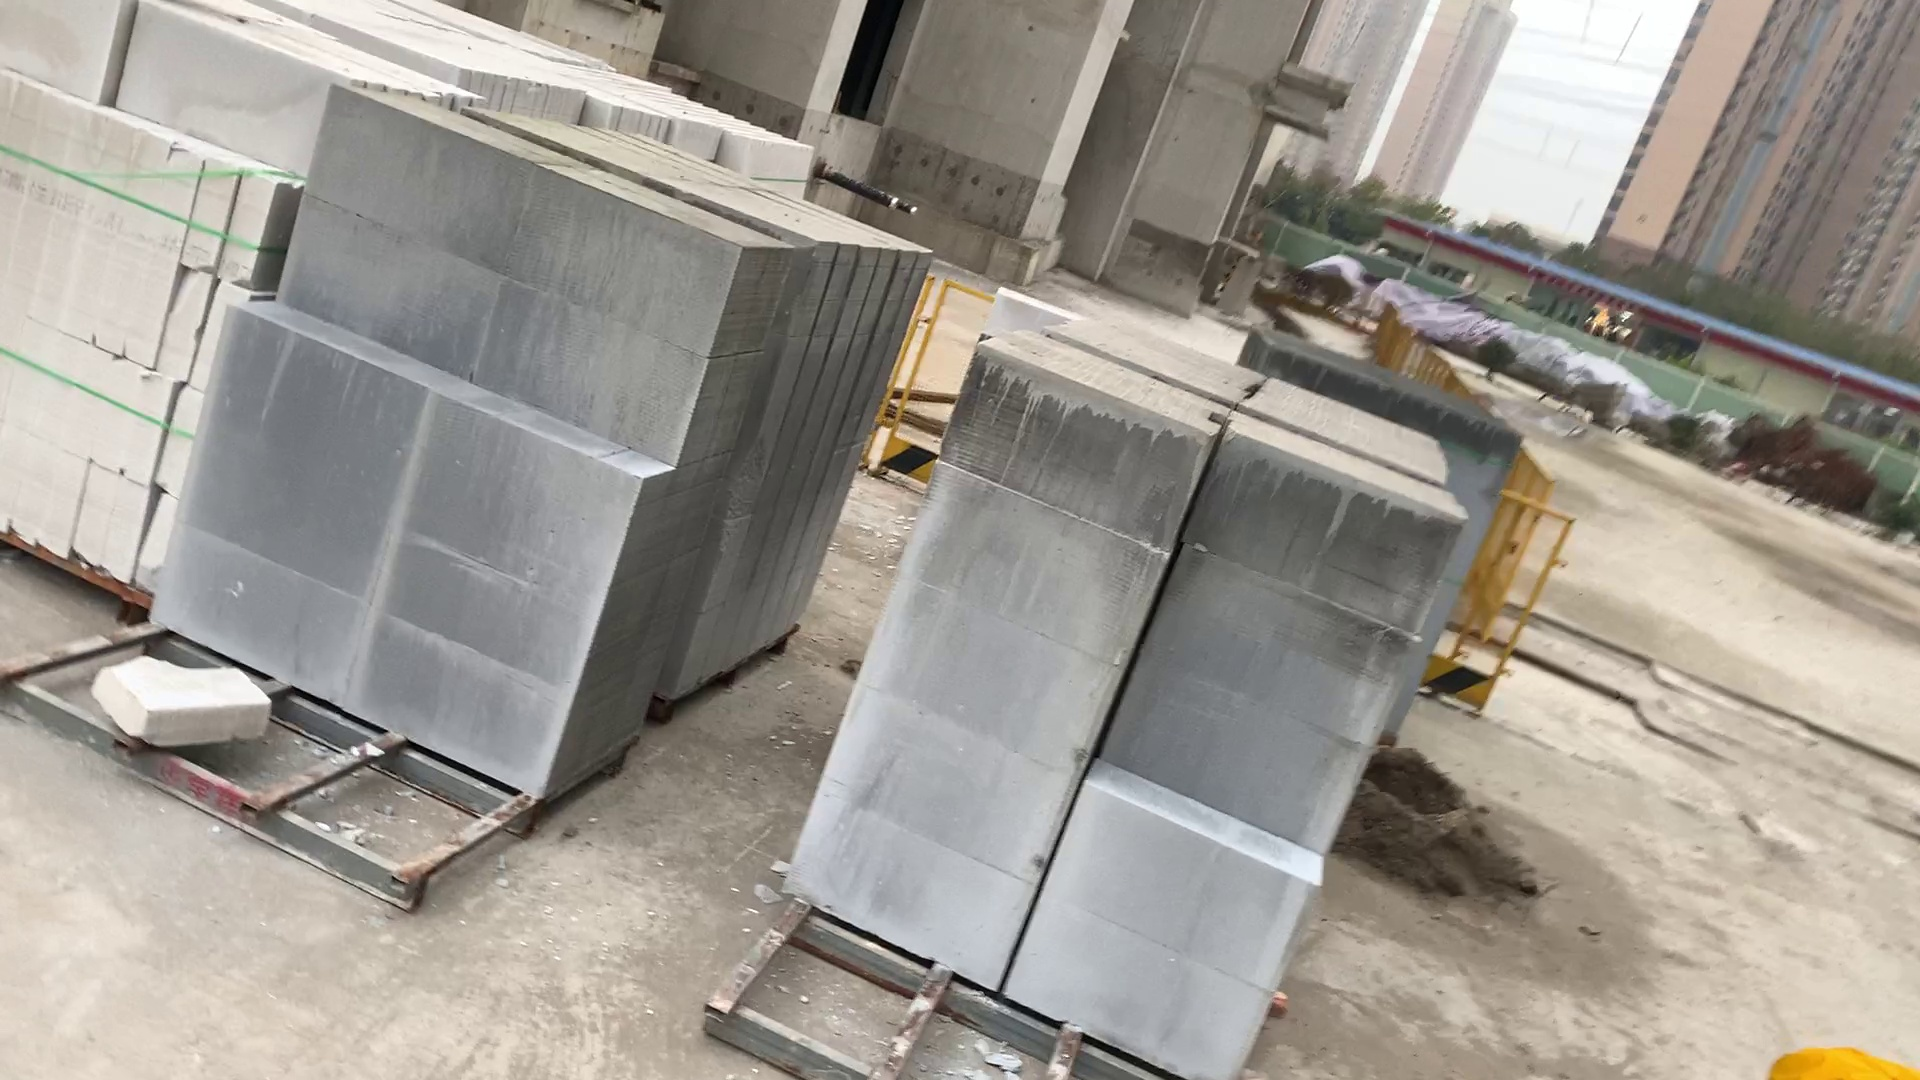brickwork: (179, 84, 934, 799), (816, 309, 1445, 1080), (1, 3, 328, 646), (1241, 322, 1534, 472), (334, 12, 585, 111), (603, 80, 802, 173)
